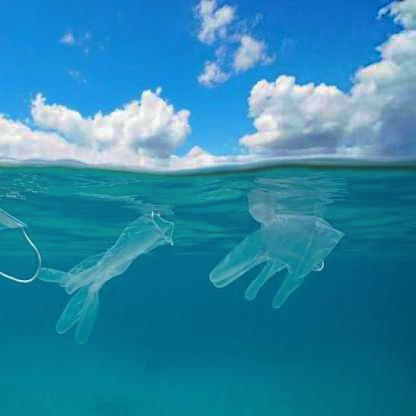Mask: (38, 206, 178, 361), (205, 196, 351, 319)
